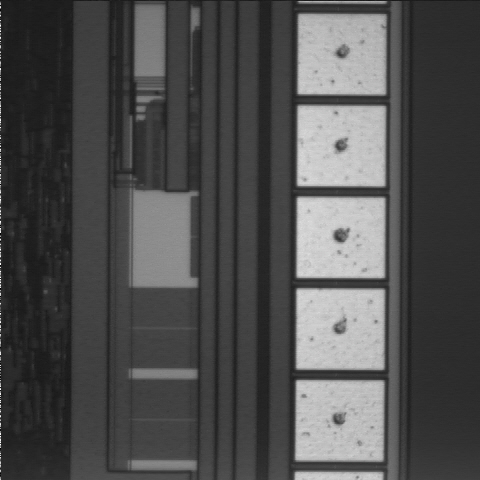pad: (298, 106, 385, 186), (297, 198, 384, 278), (297, 289, 384, 369), (298, 15, 385, 94), (296, 381, 383, 460)
